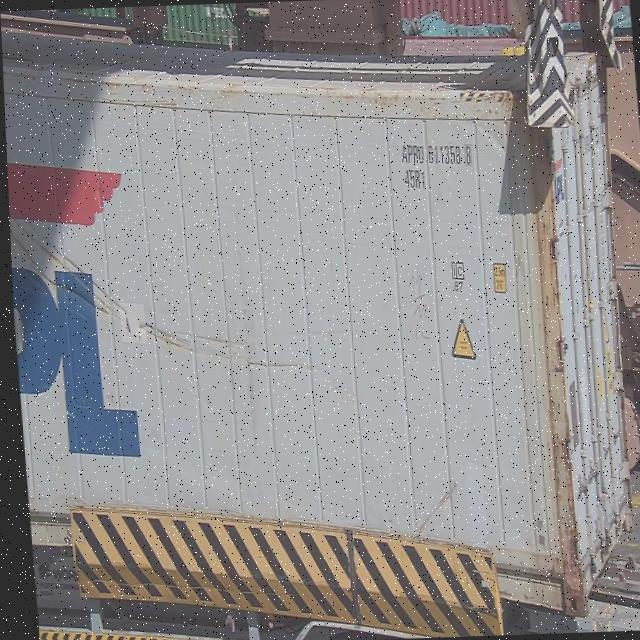rust: (540, 397, 591, 625)
